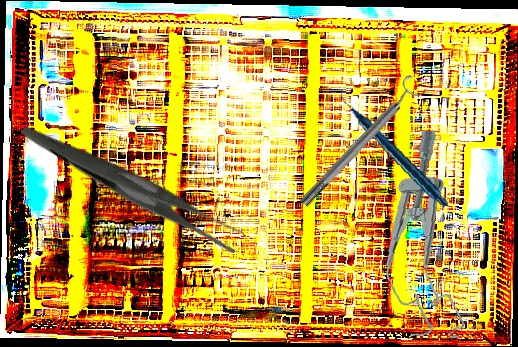Dressing Forceps: (20, 69, 249, 301)
Fixation Ring: (292, 73, 429, 212)
Handpiece: (340, 76, 449, 219)
Speculum: (376, 129, 466, 344)
